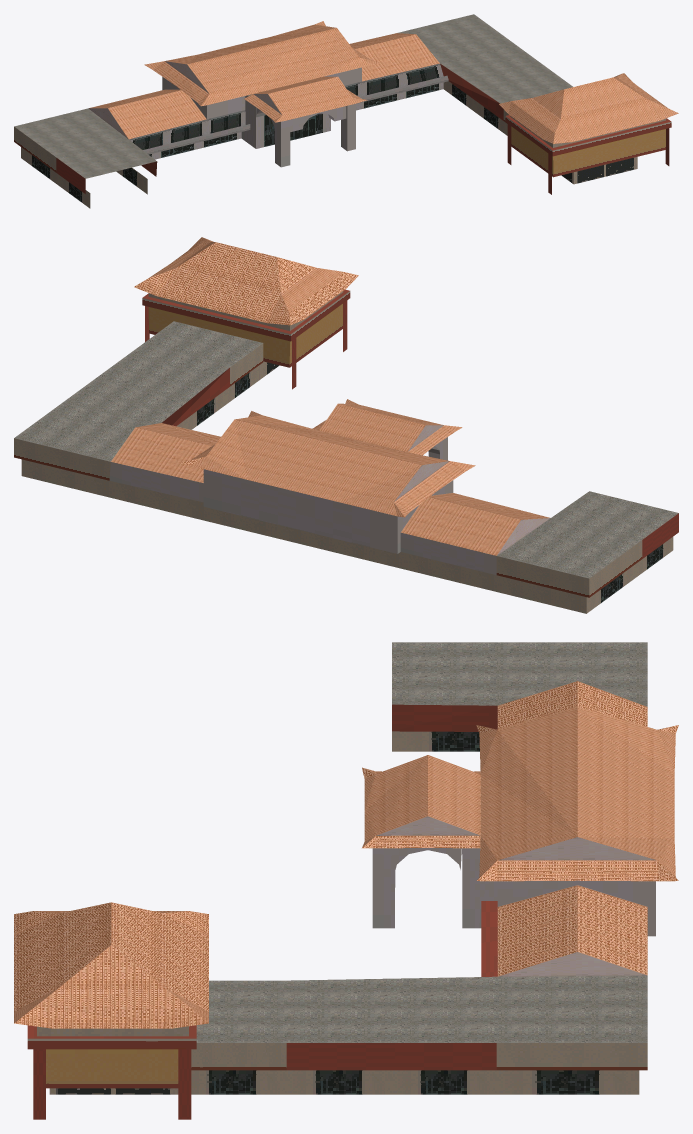
The model's file is lodatwnmll11_lvs.obj.
3 views of the same model, one above another, from view 1: azimuth 30°, elevation 25°; view 2: azimuth 150°, elevation 25°; view 3: azimuth 270°, elevation 25° (orthographic). The views are drawn at different scales.
Visible parts, largest first — view 1: lodatwnmll11_lvs; view 2: lodatwnmll11_lvs; view 3: lodatwnmll11_lvs.
Boxes of the visible parts, x1,y1,x2,y2 form: lodatwnmll11_lvs: (14, 14, 678, 208); lodatwnmll11_lvs: (14, 237, 678, 613); lodatwnmll11_lvs: (14, 642, 678, 1119).
Bounding box in the file's own units: 124 × 19.76 × 82.06.
5 materials, 5 textured.
